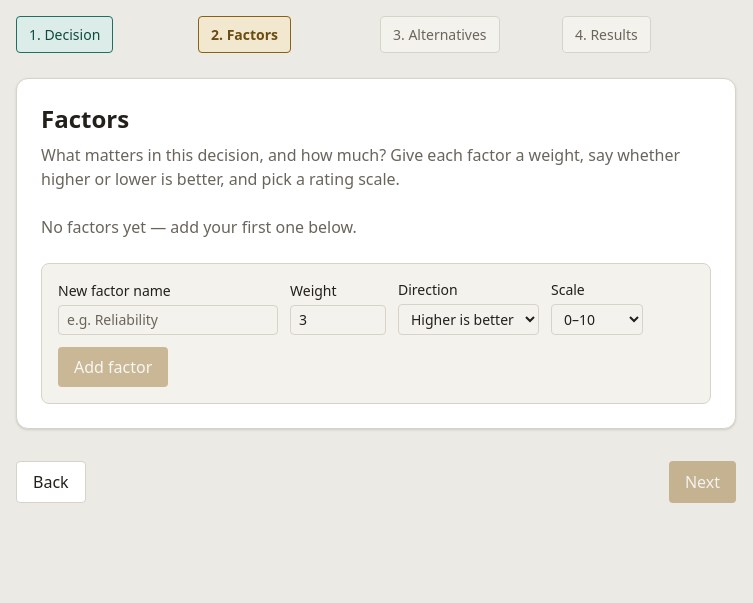
Test: WizardLayout — Back/Next navigation › Back returns to the previous step
Click the button "Back": (51, 482) [16, 461, 86, 503]
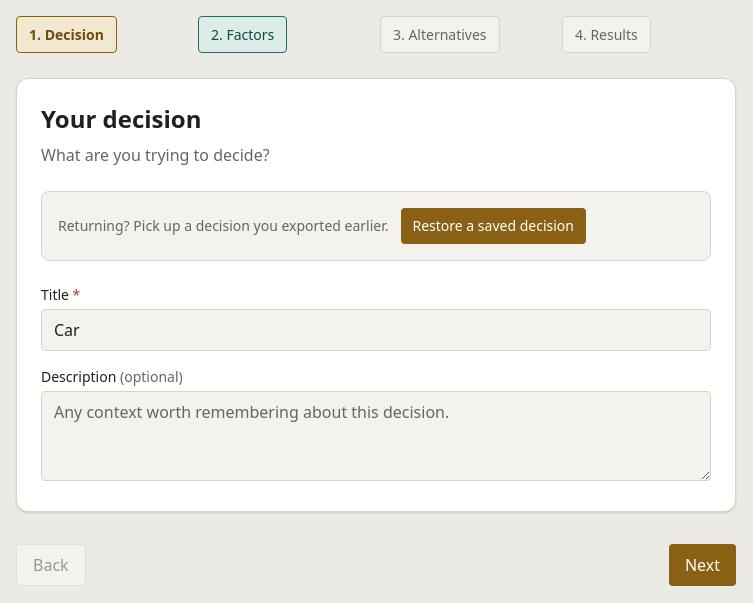
Check: the element with test id "step-decision" is shown, box [41, 103, 711, 487]
